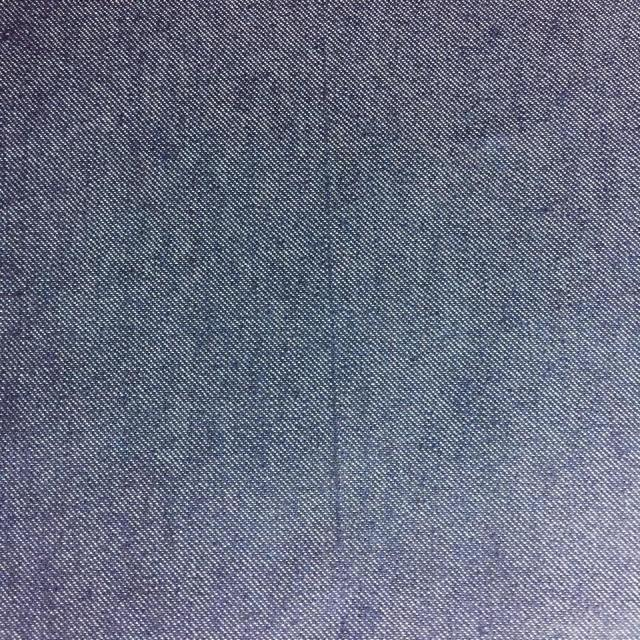Line: (315, 32, 347, 552)
